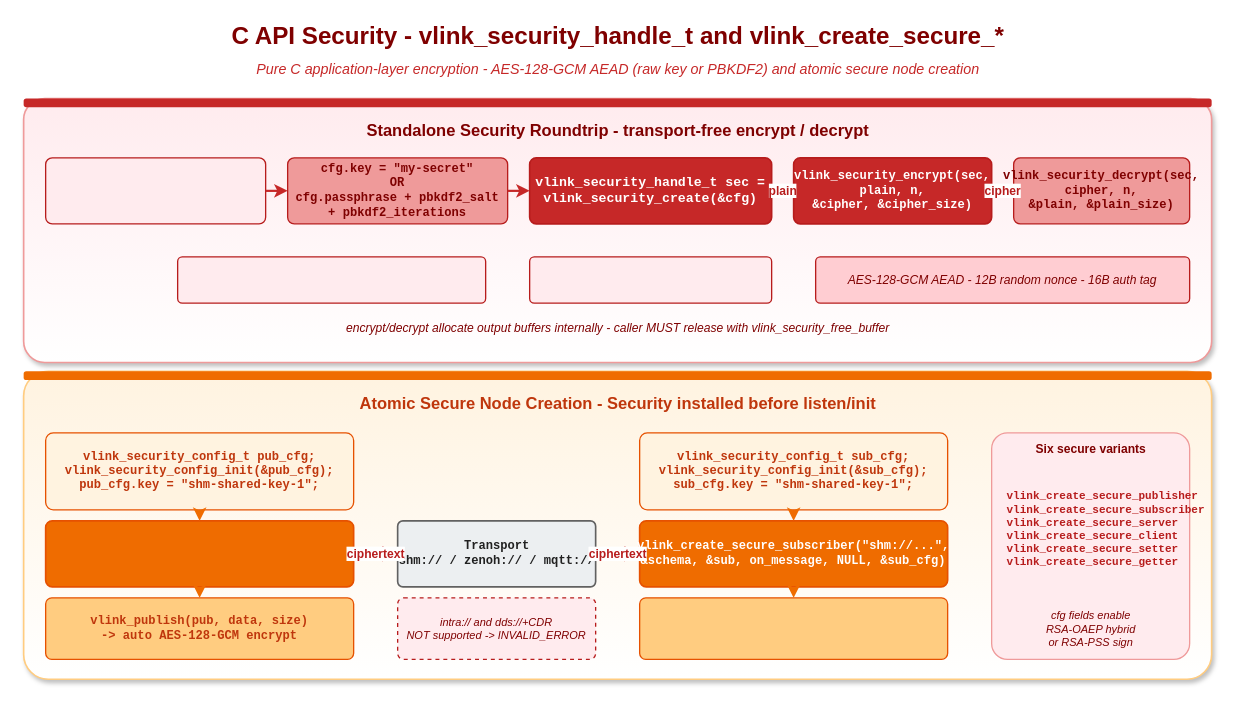
This 1239x706 diagram has some shape labels left out. The shapes that lost their labels are listed below. From the top down, each one's centre as x and y in pixels, then its label:
pixel 155 190: vlink_security_config_t cfg; vlink_security_config_init(&cfg);
pixel 331 279: vlink_security_free_buffer(cipher) vlink_security_free_buffer(plain)
pixel 650 279: vlink_security_destroy(sec)
pixel 199 553: vlink_create_secure_publisher("shm://...", &schema, &pub, &pub_cfg)
pixel 793 628: auto AES-128-GCM decrypt -> on_message(plain bytes)
